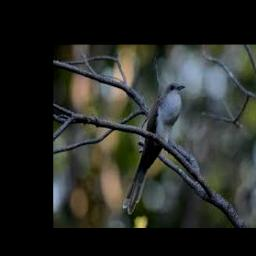Cuckoo: (123, 82, 186, 214)
